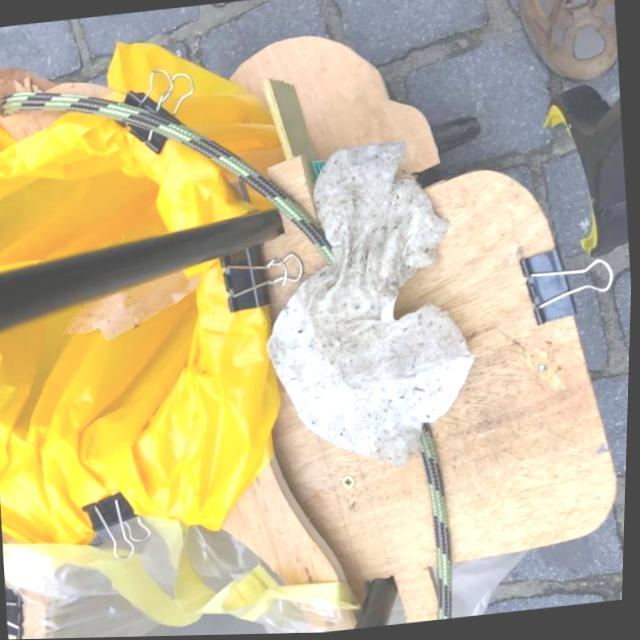Paper: (247, 130, 494, 485)
